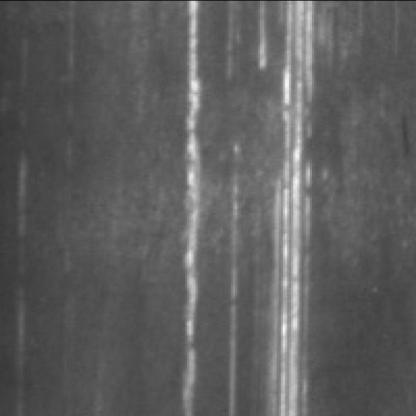scratches: (262, 0, 316, 412), (177, 0, 214, 412)
